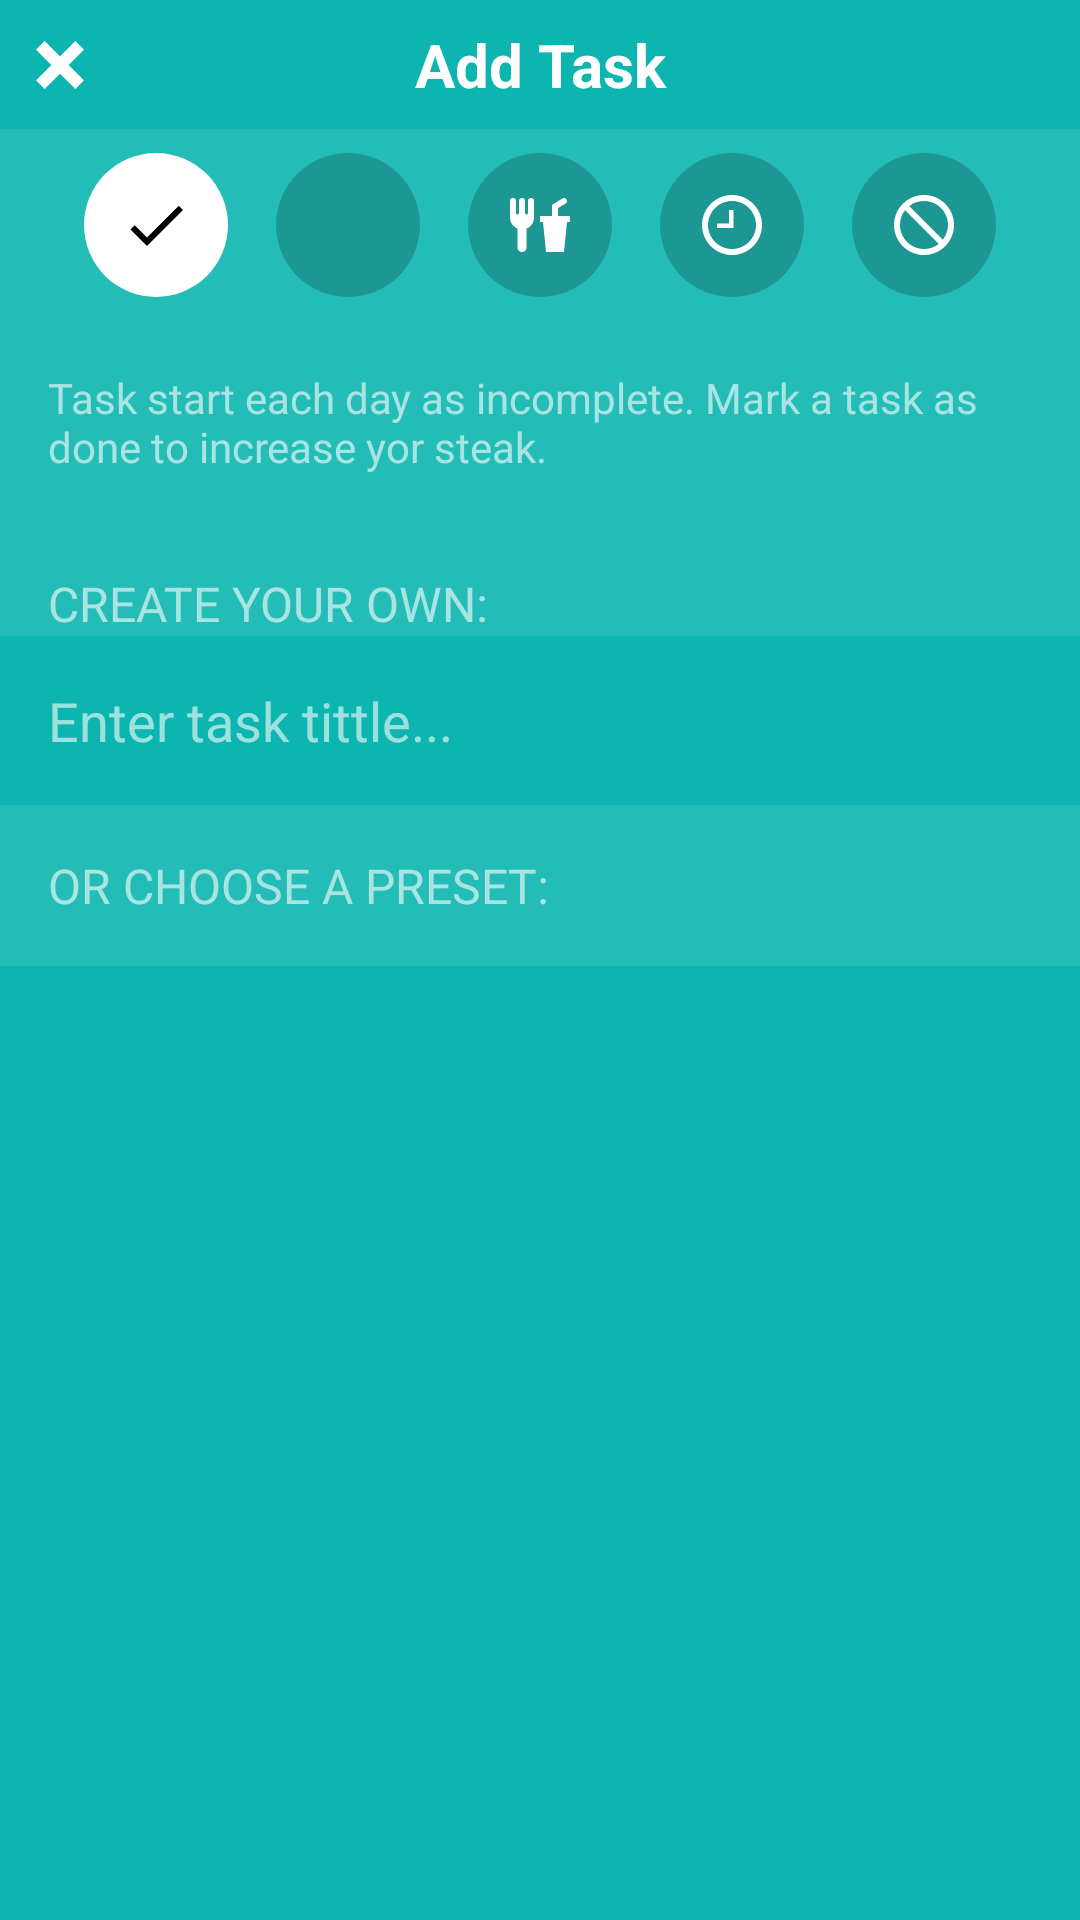

Locate icon controls on the screen. Image size 1080px x 1920px, boxes as Rect(x1, y1, x2, y2).
close thick: Rect(36, 41, 84, 89)
